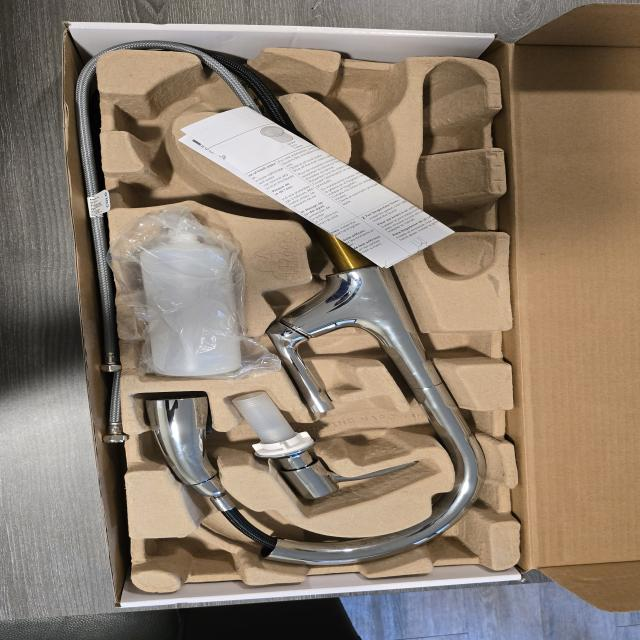1o: (144, 47, 491, 567)
2: (228, 390, 417, 499)
3: (138, 216, 244, 377)
4m: (417, 60, 496, 281)
5m: (334, 76, 394, 125)
6m: (114, 77, 204, 139)
7m: (120, 150, 244, 211)
8: (172, 105, 455, 269)
